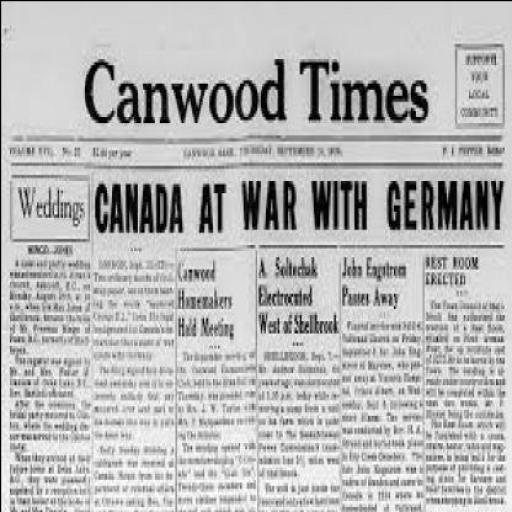paper: (1, 0, 510, 510)
